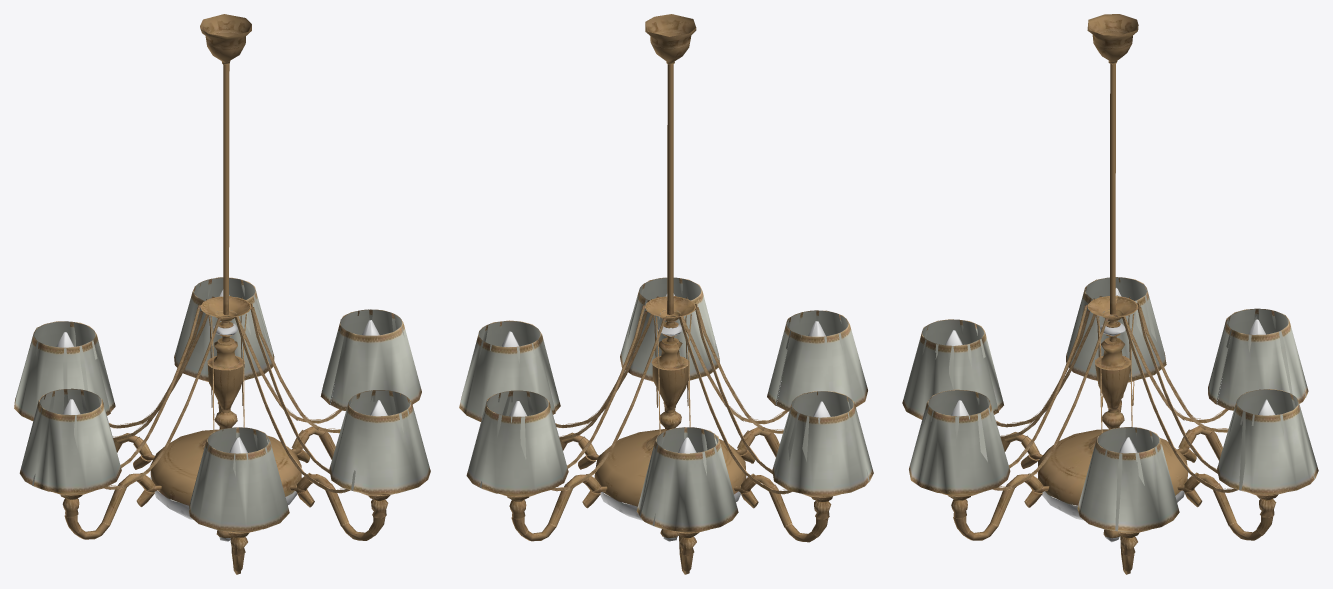
The model's file is Chandelier_02.glb.
The picture shows the model from 3 angles, left to right: view 1: azimuth 30°, elevation 25°; view 2: azimuth 150°, elevation 25°; view 3: azimuth 270°, elevation 25°; orthographic projection.
Visible parts, largest first — view 1: Chandelier_02; view 2: Chandelier_02; view 3: Chandelier_02.
Part boxes in pixels (x1=…): Chandelier_02: x1=14, y1=14, x2=430, y2=574; Chandelier_02: x1=459, y1=14, x2=873, y2=574; Chandelier_02: x1=902, y1=14, x2=1318, y2=574.
Size of the model in its own units: 0.6787 by 0.8488 by 0.6199.
Materials: 2 (1 with a texture image).
